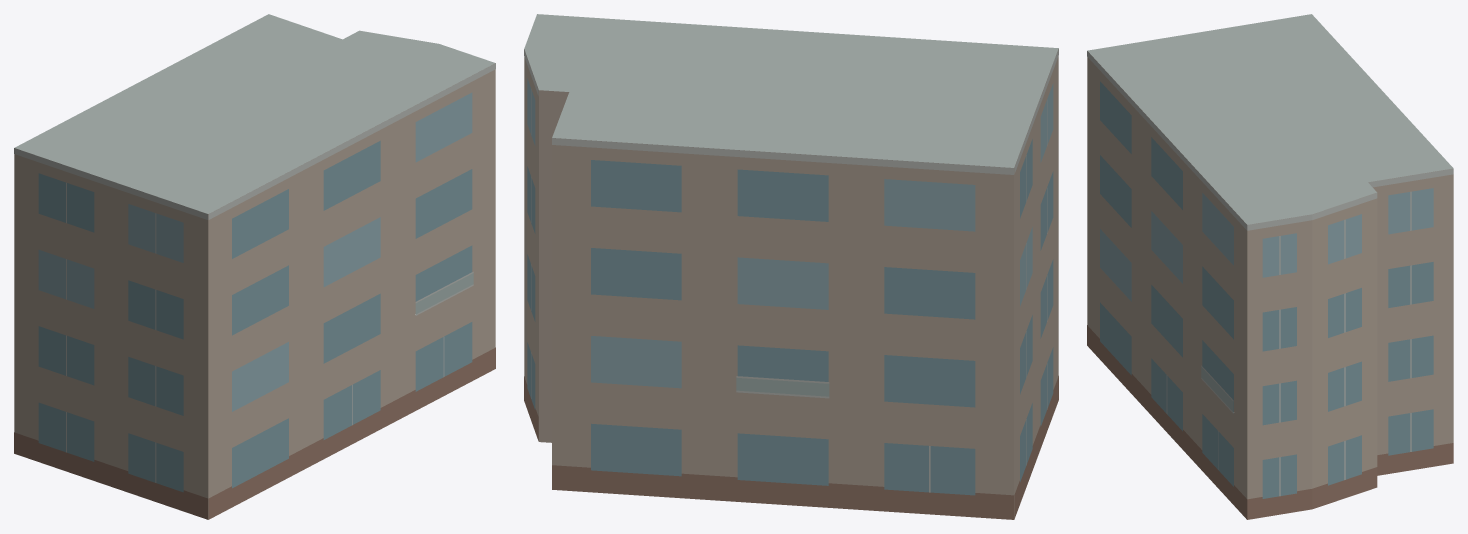
File: survey-upis-32825180.glb
3 renders of one model, left to right at view 1: azimuth 30°, elevation 25°; view 2: azimuth 150°, elevation 25°; view 3: azimuth 270°, elevation 25°, orthographic. The views are drawn at different scales.
Visible parts, largest first — view 1: survey-upis-32825180.tmp; view 2: survey-upis-32825180.tmp; view 3: survey-upis-32825180.tmp.
Part boxes in pixels (x1=…): survey-upis-32825180.tmp: x1=14, y1=14, x2=495, y2=519; survey-upis-32825180.tmp: x1=524, y1=14, x2=1058, y2=519; survey-upis-32825180.tmp: x1=1087, y1=14, x2=1453, y2=519.
Size of the model in its own units: 18.72 by 12.2 by 13.75.
